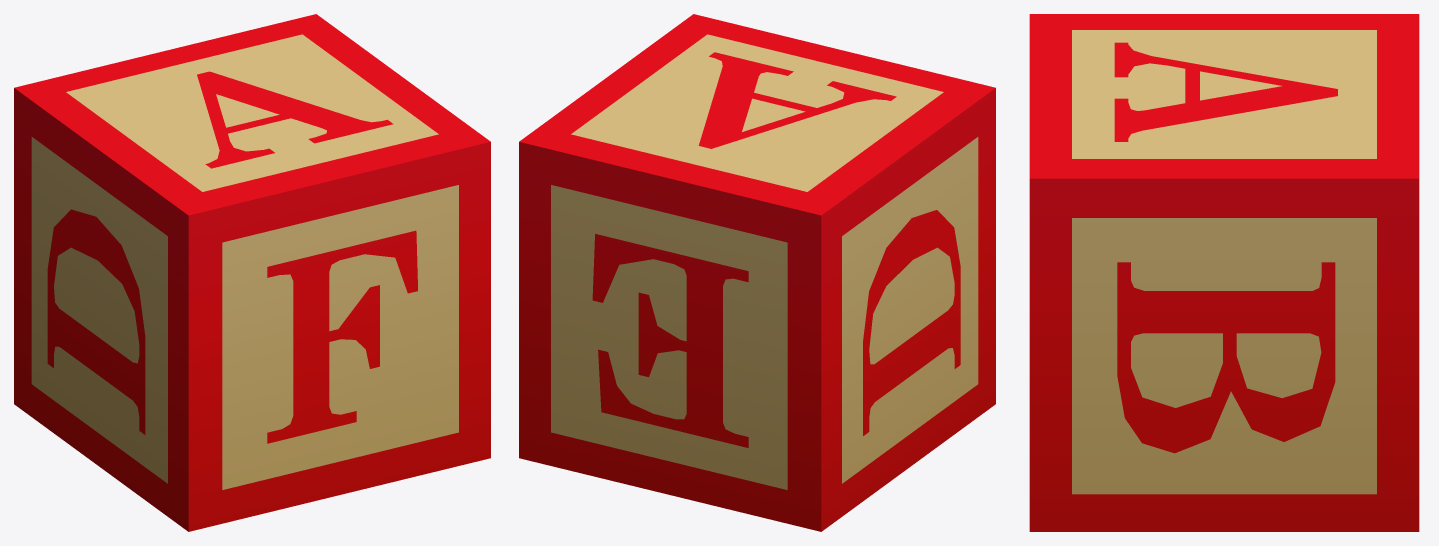
Rendered from cube_ABCDFE.fbx.
3 renders of one model, left to right at view 1: azimuth 30°, elevation 25°; view 2: azimuth 150°, elevation 25°; view 3: azimuth 270°, elevation 25°, orthographic. The views are drawn at different scales.
Visible parts, largest first — view 1: cube_ABCDFE; view 2: cube_ABCDFE; view 3: cube_ABCDFE.
Part boxes in pixels (bbox=[...]): cube_ABCDFE: bbox=[14, 14, 490, 531]; cube_ABCDFE: bbox=[519, 14, 995, 531]; cube_ABCDFE: bbox=[1029, 14, 1419, 531].
Size of the model in its own units: 6.53 by 6.53 by 6.53.
